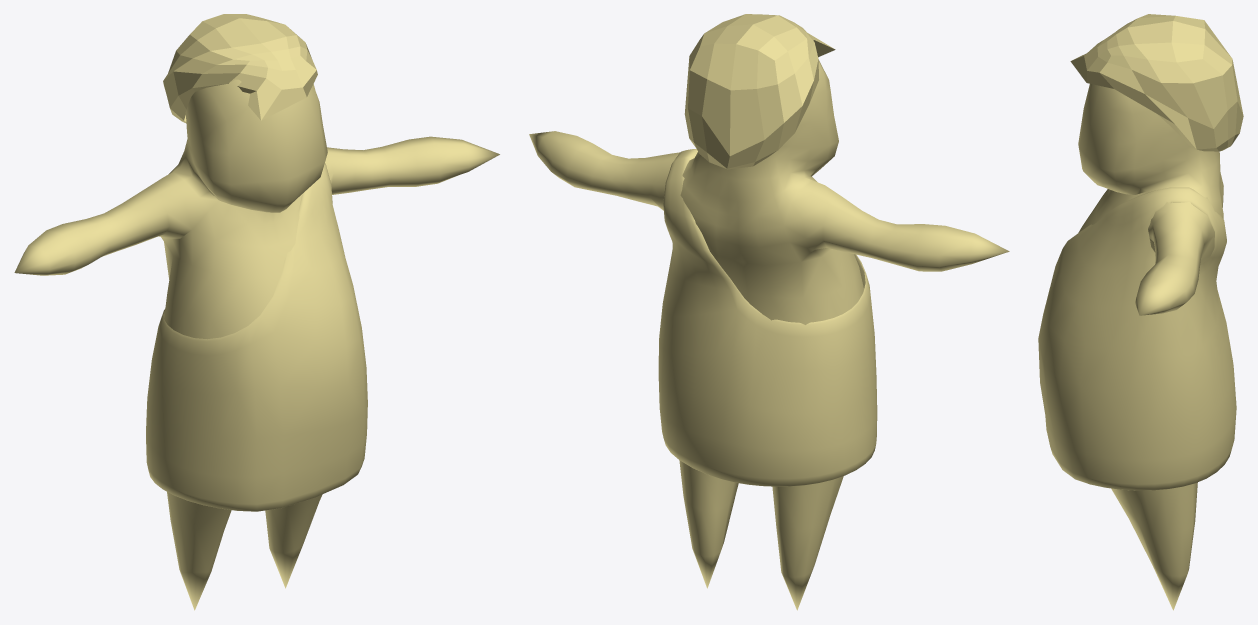
3 renders of one model, left to right at view 1: azimuth 30°, elevation 25°; view 2: azimuth 150°, elevation 25°; view 3: azimuth 270°, elevation 25°, orthographic. The views are drawn at different scales.
Visible parts, largest first — view 1: Body_low, Cloths_low, PM3D_Sphere3D1; view 2: Body_low, Cloths_low, PM3D_Sphere3D1; view 3: Cloths_low, Body_low, PM3D_Sphere3D1.
Boxes of the visible parts, left/top/right/bottom form: Body_low: left=14, top=79, right=499, bottom=610; Cloths_low: left=146, top=163, right=367, bottom=511; PM3D_Sphere3D1: left=163, top=14, right=317, bottom=122; Body_low: left=529, top=60, right=1009, bottom=610; Cloths_low: left=658, top=149, right=877, bottom=486; PM3D_Sphere3D1: left=684, top=14, right=835, bottom=169; Cloths_low: left=1038, top=187, right=1236, bottom=490; Body_low: left=1078, top=84, right=1223, bottom=610; PM3D_Sphere3D1: left=1070, top=14, right=1243, bottom=151.
Bounding box in the file's own units: 53.82 × 20.16 × 61.56.
